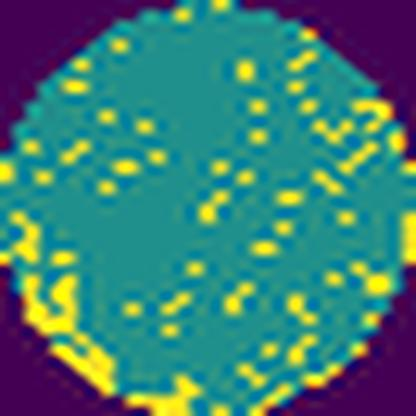Edge-Loc: (21, 274, 120, 404), (123, 370, 202, 416)
